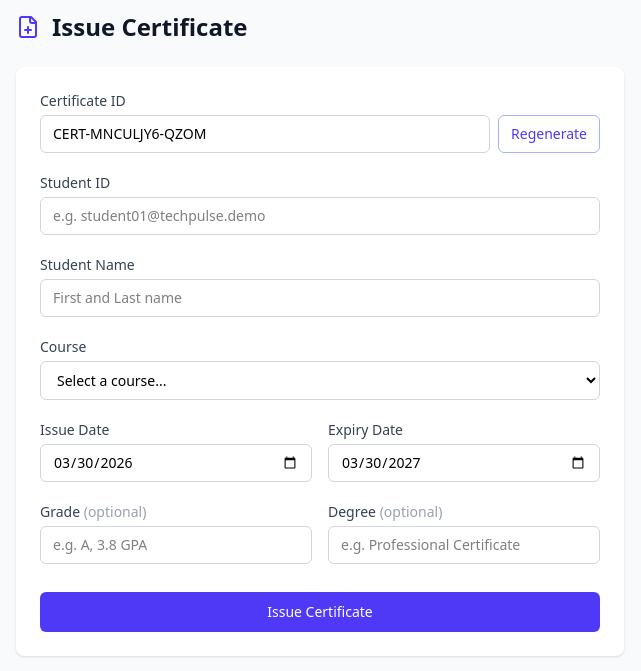
Scenario: IssueCertificate › shows error on failure
In the field labelled "Student ID": (320, 216) [40,197,600,235], type "STU-001"
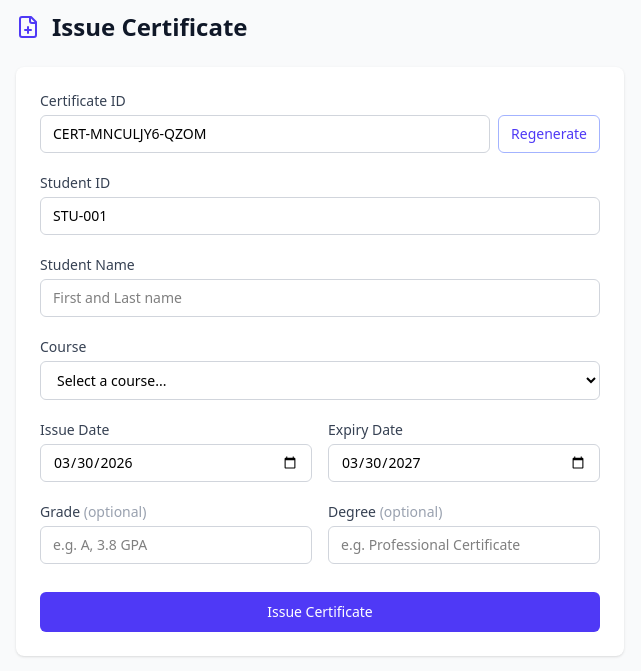
In the field labelled "Student Name": (320, 298) [40,279,600,317], type "Alice Johnson"
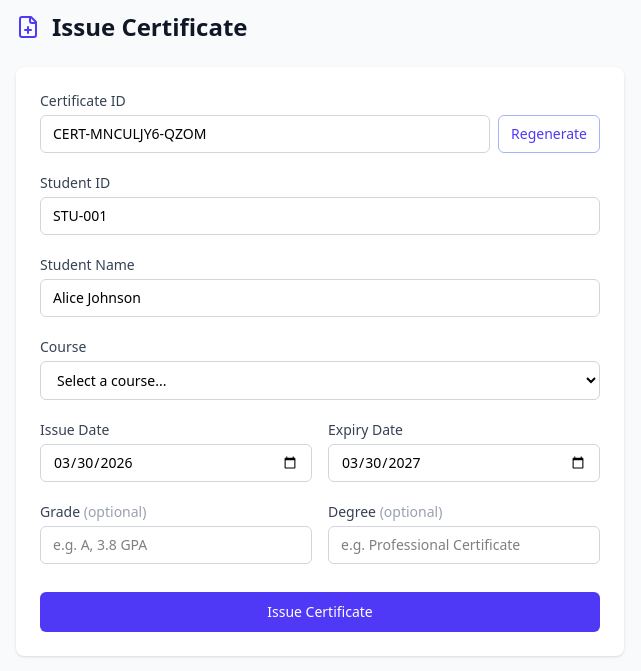
Select "Full-Stack Web Dev" in the dropdown labelled "Course": (320, 380) [40,361,600,400]
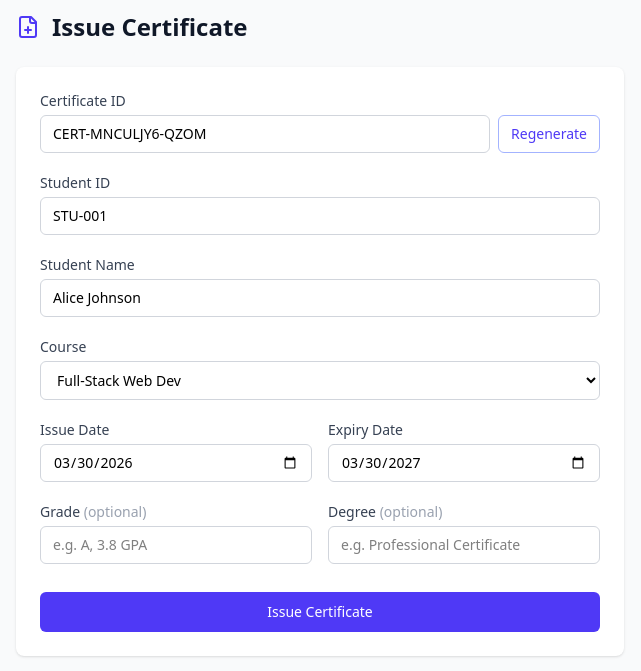
Click the button "Issue Certificate": click(320, 612) [40,592,600,632]
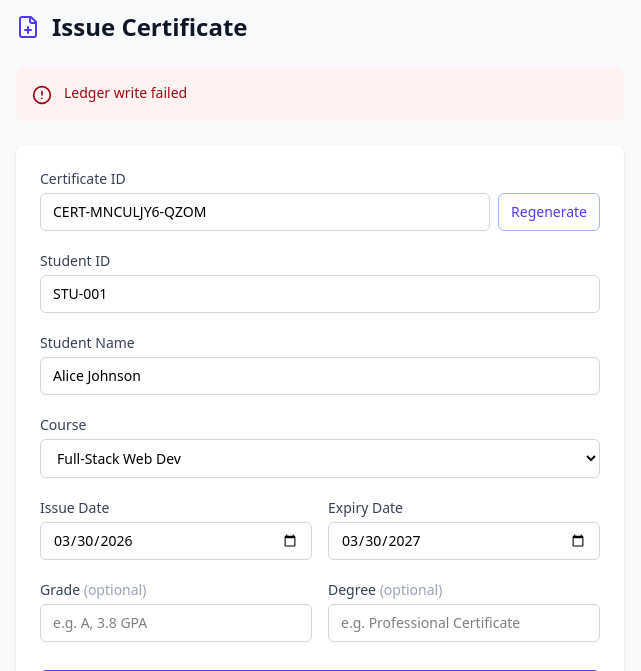
Expected: the text "Ledger write failed" is shown, [64,83,187,103]
